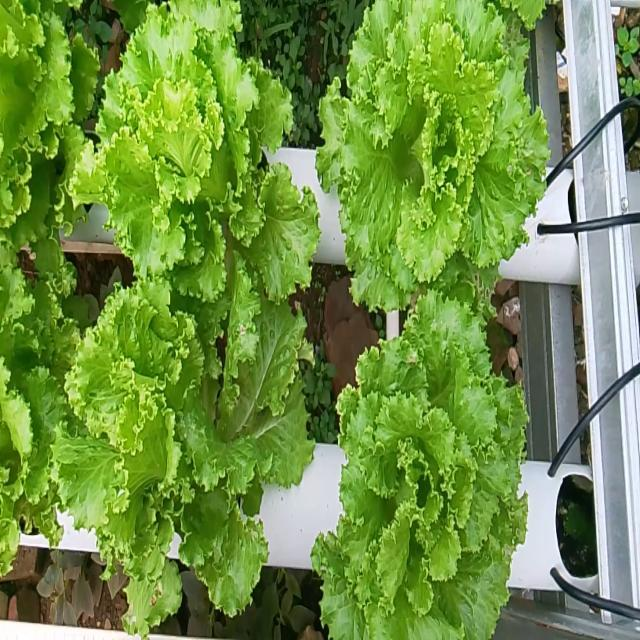Mature: (47, 275, 310, 632), (308, 272, 526, 632), (61, 13, 317, 316), (312, 5, 549, 315)
